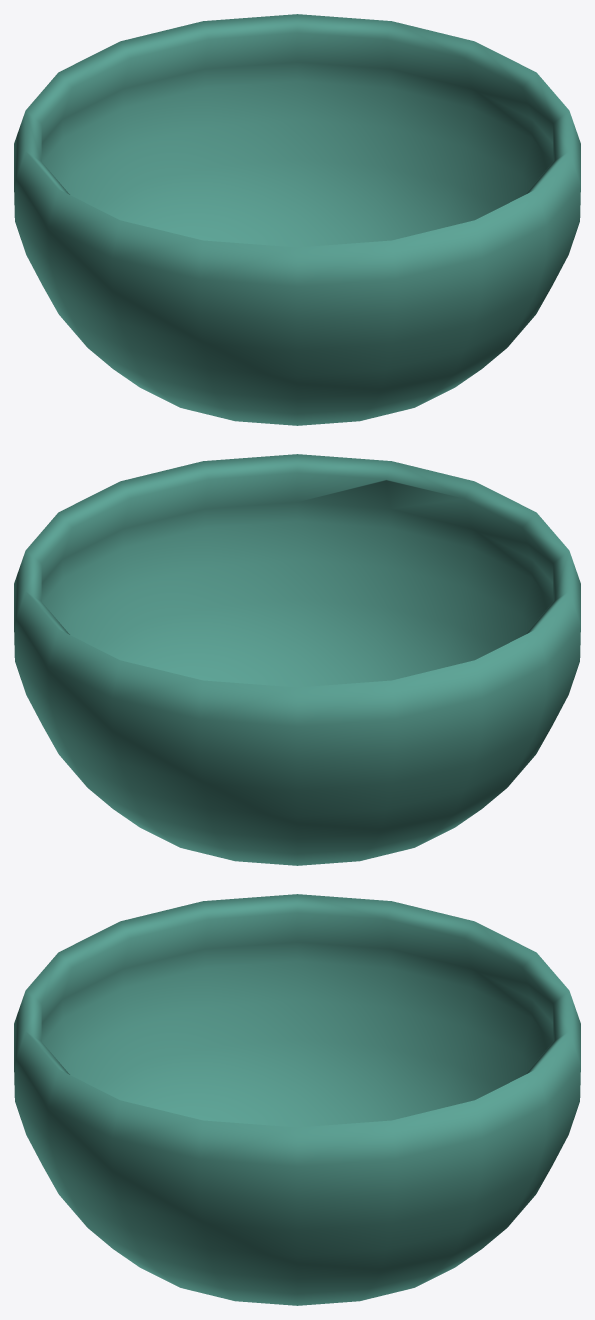
The model's file is vase_wide_sphere.FBX.
3 renders of one model, top to bottom at view 1: azimuth 30°, elevation 25°; view 2: azimuth 150°, elevation 25°; view 3: azimuth 270°, elevation 25°, orthographic.
Visible parts, largest first — view 1: vase_wide_sphere; view 2: vase_wide_sphere; view 3: vase_wide_sphere.
Boxes of the visible parts, bbox=[...] form: vase_wide_sphere: bbox=[14, 14, 580, 425]; vase_wide_sphere: bbox=[14, 454, 580, 865]; vase_wide_sphere: bbox=[14, 894, 580, 1305].
Bounding box in the file's own units: 45.92 × 45.23 × 19.18.
